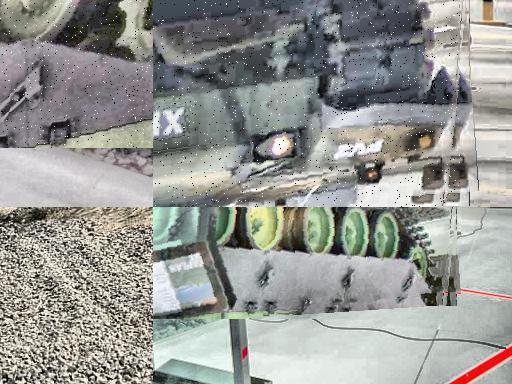tanks: (154, 1, 460, 208), (155, 208, 452, 320), (1, 1, 154, 149), (88, 132, 94, 133)
